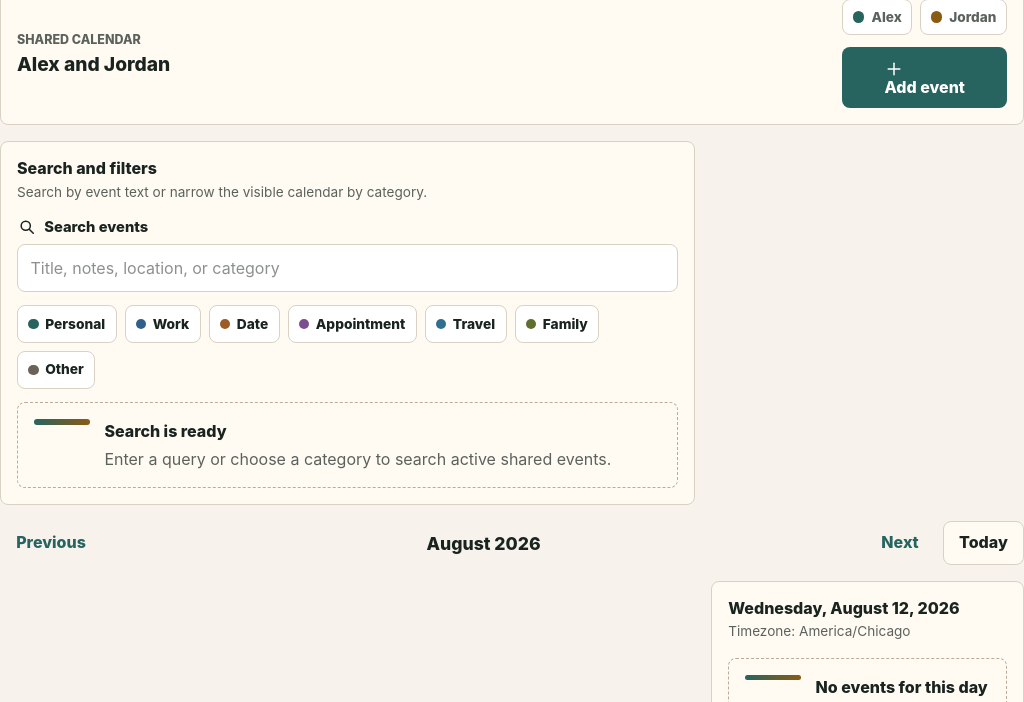
Test case: SharedCalendar › creates an event from the calendar add action and refreshes the agenda
Click the button "Add event" at (925, 78), box [842, 47, 1007, 108]
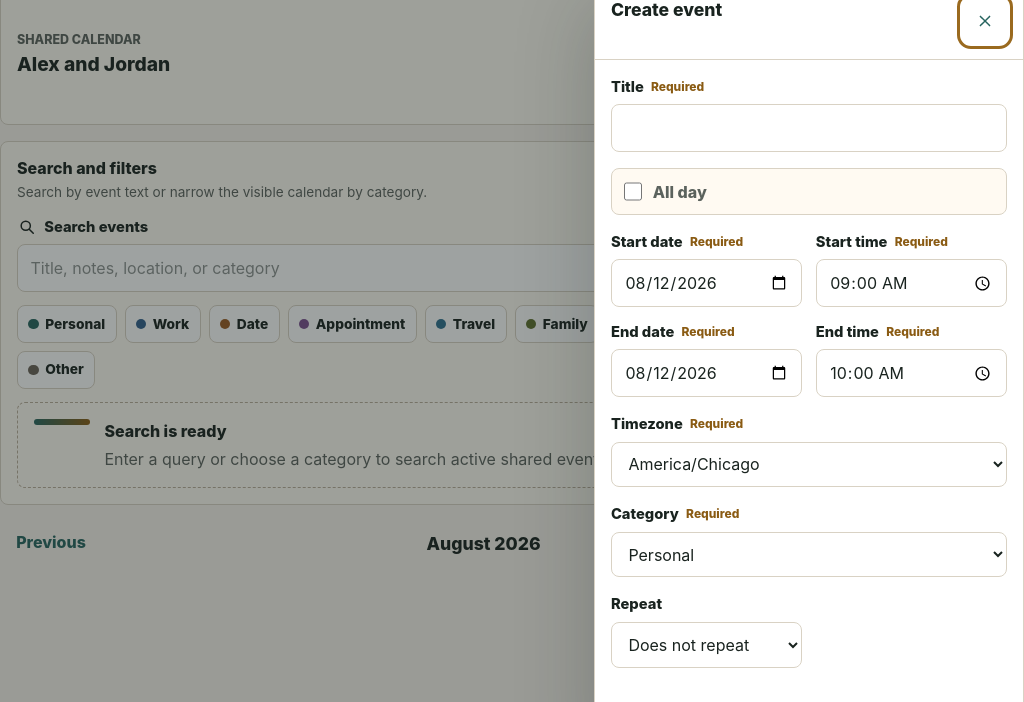
Expected: the form named "Event form" is shown, [611, 76, 1007, 684]
Type "Movie night" into the field labelled "Title Required" at (809, 128), box [611, 104, 1007, 152]
(page scrolled)
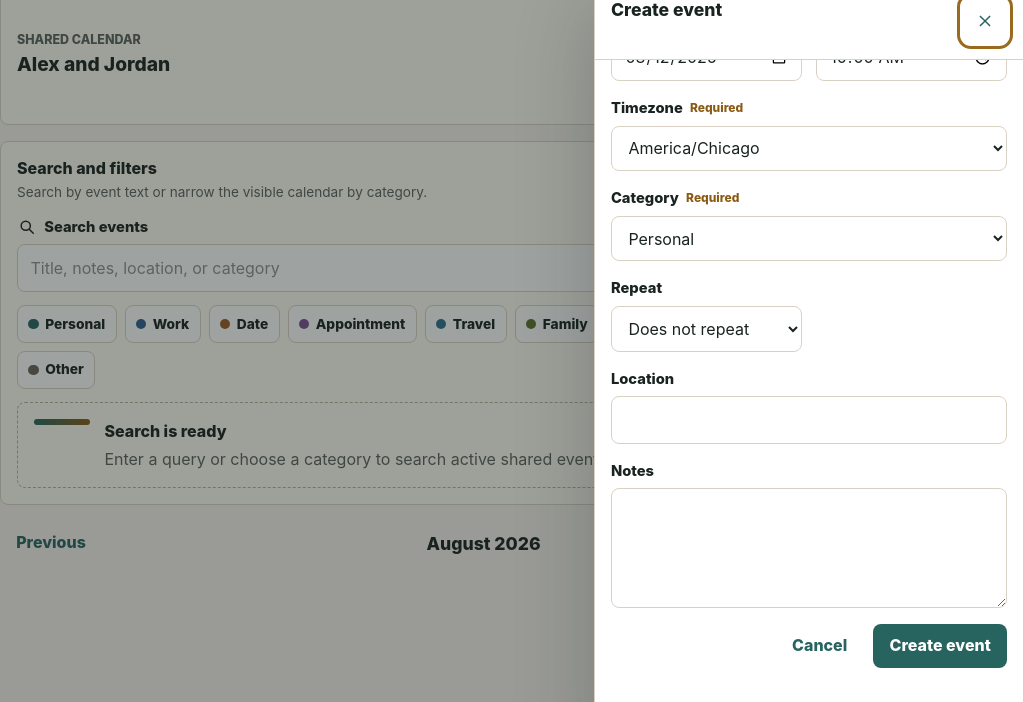
Type "Cinema" into the field labelled "Location" at (809, 420), box [611, 396, 1007, 444]
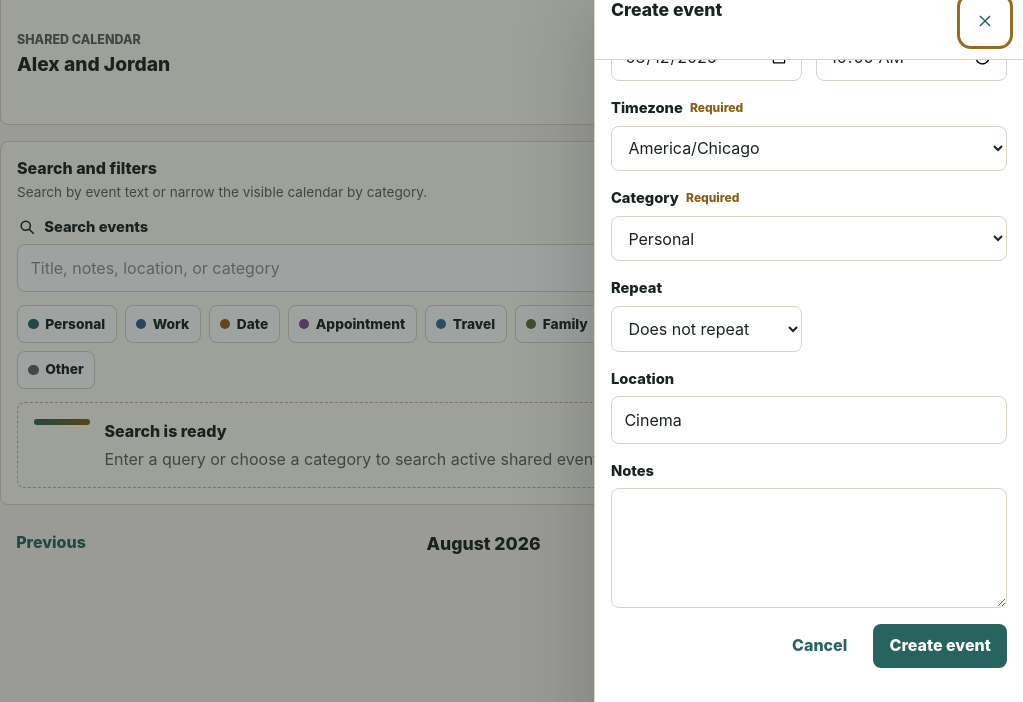
Click the button "Create event" at (940, 646), box [873, 624, 1007, 668]
(page scrolled)
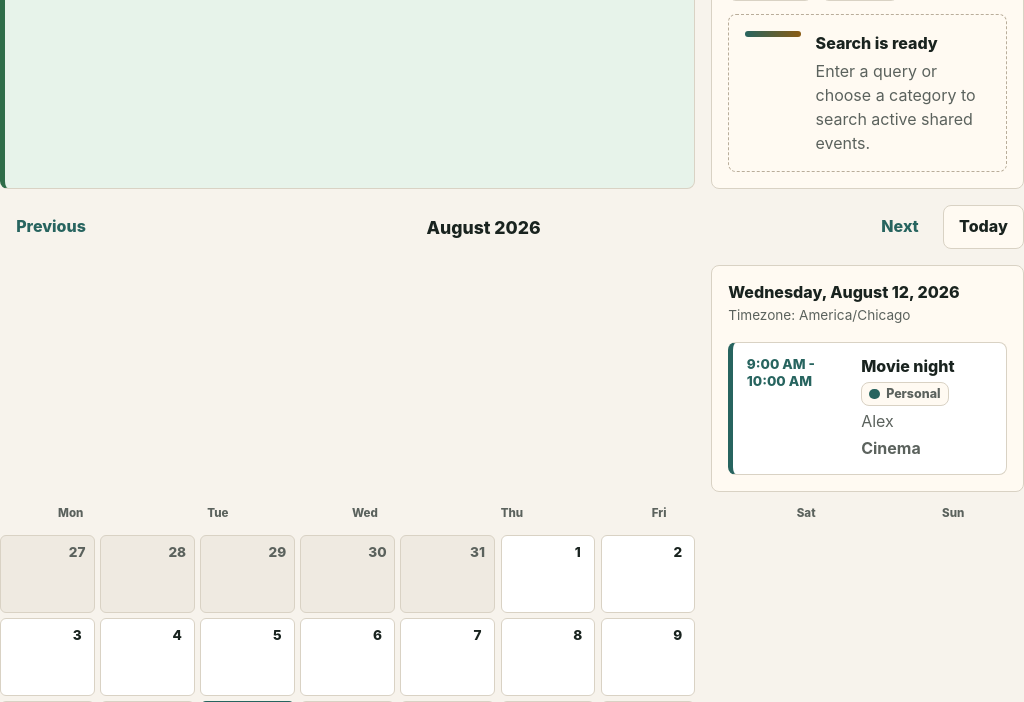
Expected: the heading "Movie night" is shown, [861, 356, 955, 376]
